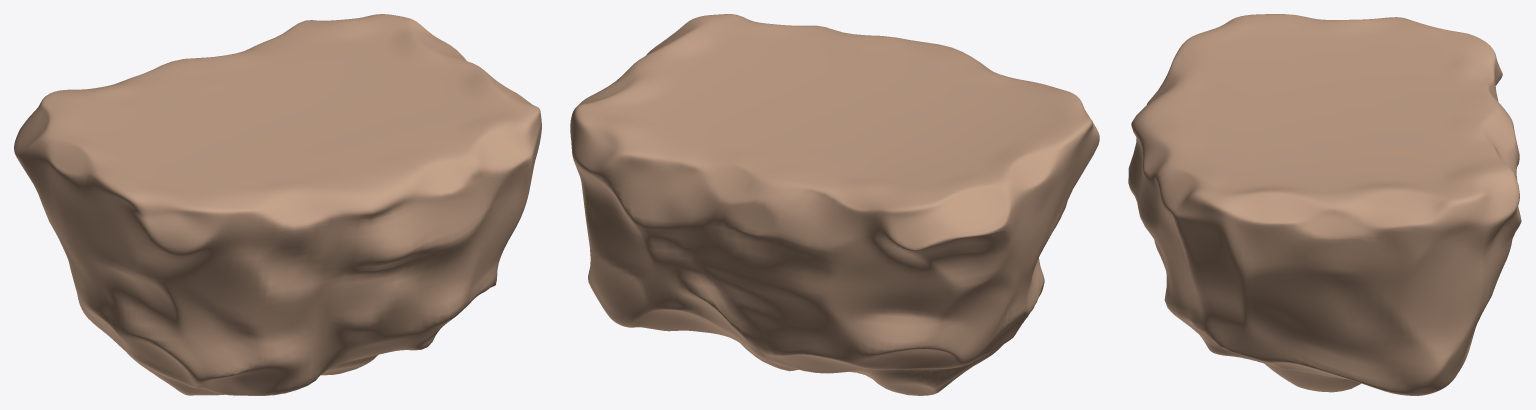
Rendered from Platform_3D_02_HP.fbx.
3 renders of one model, left to right at view 1: azimuth 30°, elevation 25°; view 2: azimuth 150°, elevation 25°; view 3: azimuth 270°, elevation 25°, orthographic. The views are drawn at different scales.
Parts seen in each view (by area): view 1: Box022; view 2: Box022; view 3: Box022.
Boxes of the visible parts, x1,y1,x2,y2 form: Box022: (14, 14, 541, 395); Box022: (570, 14, 1099, 395); Box022: (1128, 14, 1521, 395).
Bounding box in the file's own units: 997 × 610 × 824.
